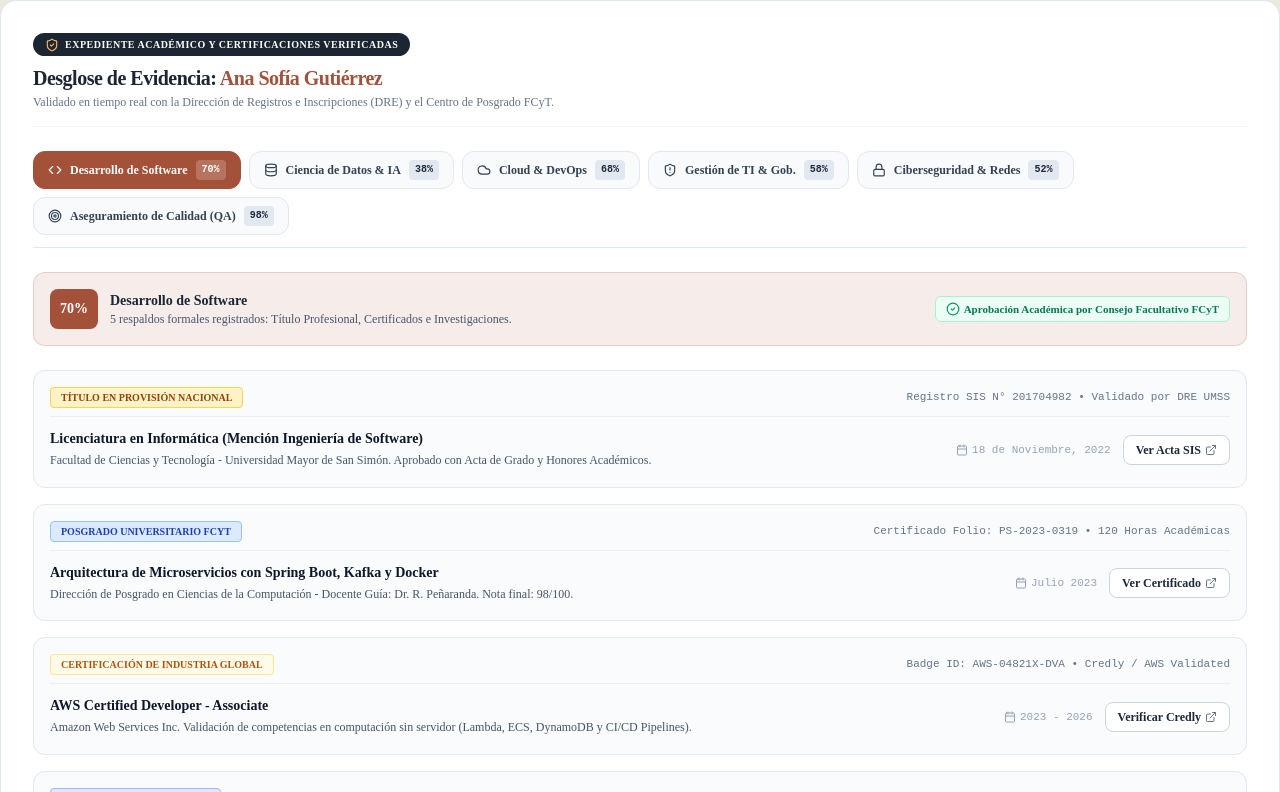
Scenario: EvidenceBreakdown › permite cambiar de área y muestra los respaldos del área seleccionada
The width and height of the screenshot is (1280, 792).
Click the button "Aseguramiento de Calidad (QA) 98%": (161,216) x1=33 y1=197 x2=289 y2=235
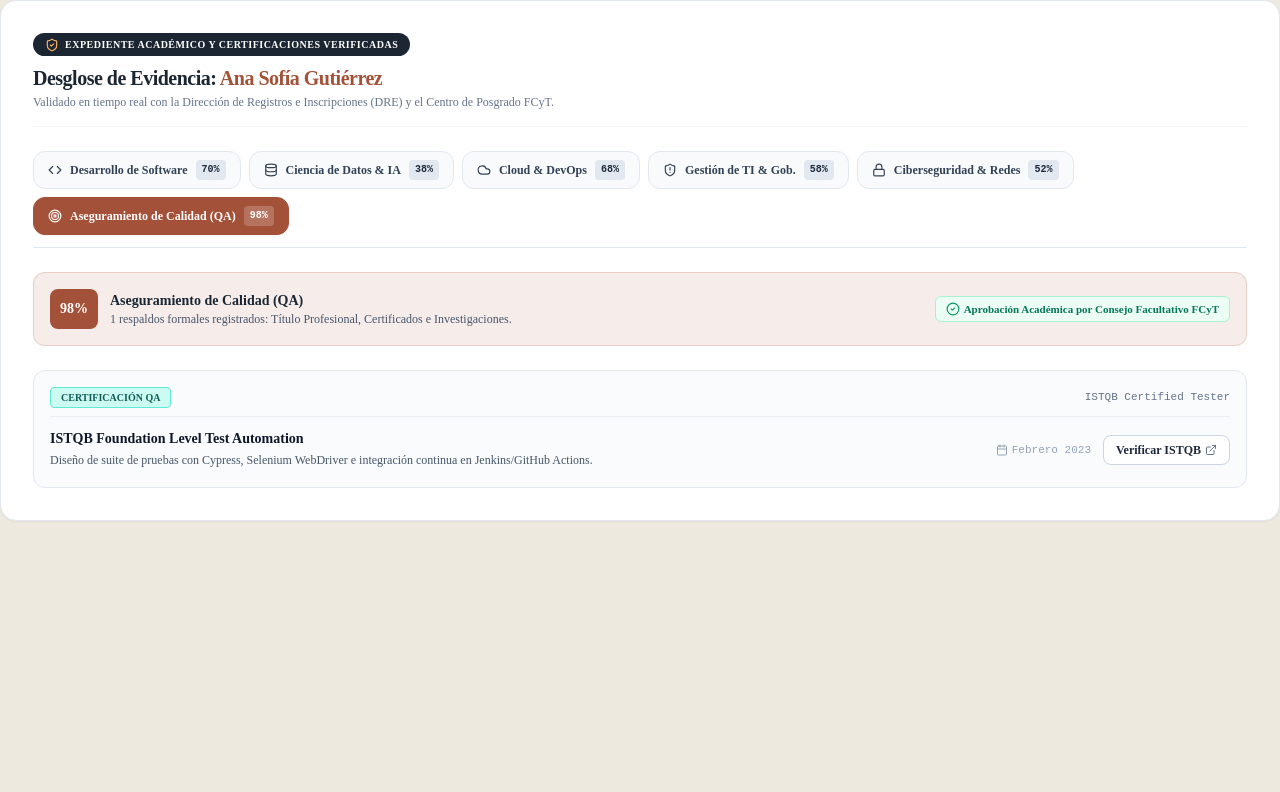
Expected: the heading "ISTQB Foundation Level Test Automation" is shown, x1=50 y1=431 x2=304 y2=446
Expected: the text "CERTIFICACIÓN QA" is shown, x1=50 y1=387 x2=171 y2=408
